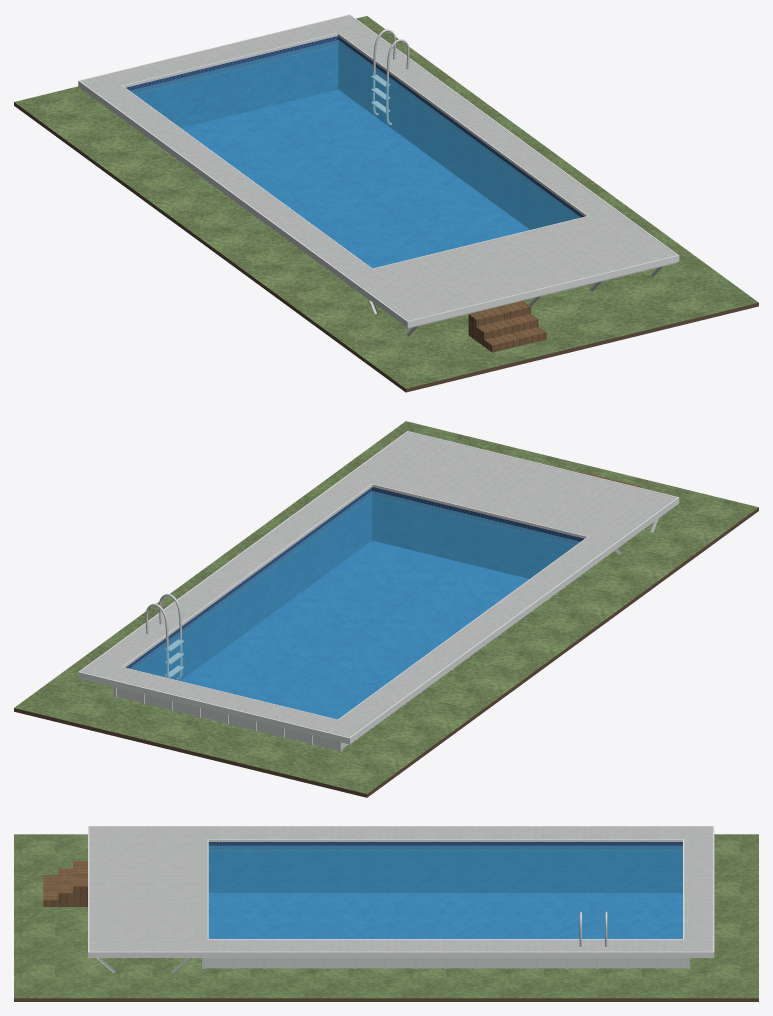
Rendered from kayak-pool-16x32-white-end-rec-nofence.7c719258ca.glb.
The picture shows the model from 3 angles, top to bottom: view 1: azimuth 30°, elevation 25°; view 2: azimuth 150°, elevation 25°; view 3: azimuth 270°, elevation 25°; orthographic projection. The views are drawn at different scales.
Parts seen in each view (by area): view 1: water, ground, deck, liner_floor, liner_wall, fascia, soil, steps, steel, stud; view 2: water, ground, deck, liner_floor, liner_wall, fascia, soil, wall, steel; view 3: water, ground, deck, liner_wall, liner_floor, fascia, wall, soil, steps, upright.
Part boxes in pixels (x1,y1,x2,y2): water: [130, 40, 580, 268]; ground: [14, 16, 758, 388]; deck: [80, 15, 676, 320]; liner_floor: [181, 90, 529, 268]; liner_wall: [126, 36, 584, 229]; fascia: [78, 14, 679, 327]; soil: [14, 102, 758, 392]; steps: [468, 301, 546, 352]; steel: [371, 29, 409, 125]; stud: [348, 262, 677, 336]; water: [129, 491, 579, 719]; ground: [14, 421, 758, 793]; deck: [80, 432, 676, 737]; liner_floor: [181, 540, 529, 719]; liner_wall: [126, 487, 584, 680]; fascia: [78, 431, 679, 744]; soil: [14, 507, 758, 797]; wall: [117, 687, 348, 750]; steel: [145, 593, 183, 679]; water: [208, 845, 682, 938]; ground: [14, 834, 758, 998]; deck: [89, 827, 712, 951]; liner_wall: [208, 842, 682, 892]; liner_floor: [208, 893, 682, 938]; fascia: [88, 826, 714, 957]; wall: [205, 958, 686, 968]; soil: [14, 998, 758, 1001]; steps: [43, 861, 87, 906]; upright: [202, 958, 689, 968].
Bounding box in the file's own units: 7.92 × 1.9 × 15.23.
Materials: 12 (5 with a texture image).
